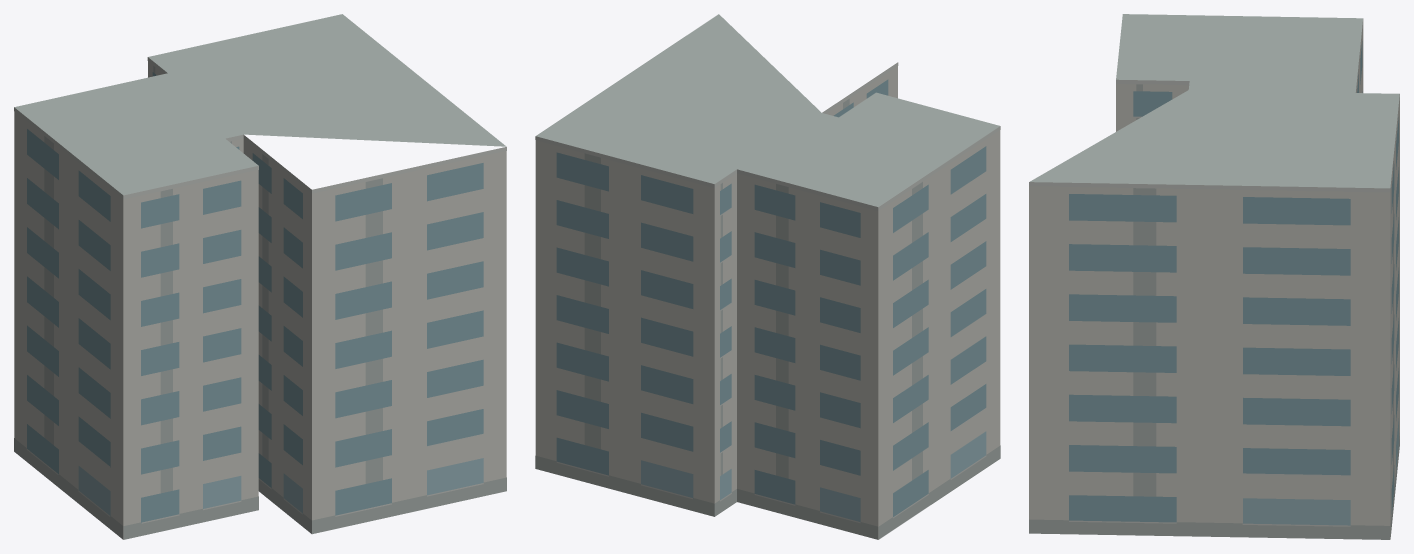
Rendered from survey-upis-32655675.glb.
3 views of the same model, side by side, from view 1: azimuth 30°, elevation 25°; view 2: azimuth 150°, elevation 25°; view 3: azimuth 270°, elevation 25° (orthographic). The views are drawn at different scales.
Visible parts, largest first — view 1: survey-upis-32655675.tmp; view 2: survey-upis-32655675.tmp; view 3: survey-upis-32655675.tmp.
Part boxes in pixels (x1,y1,x2,y2): survey-upis-32655675.tmp: (14, 14, 506, 539); survey-upis-32655675.tmp: (535, 14, 1000, 539); survey-upis-32655675.tmp: (1029, 14, 1399, 539).
Bounding box in the file's own units: 21.61 × 20.3 × 19.42.
